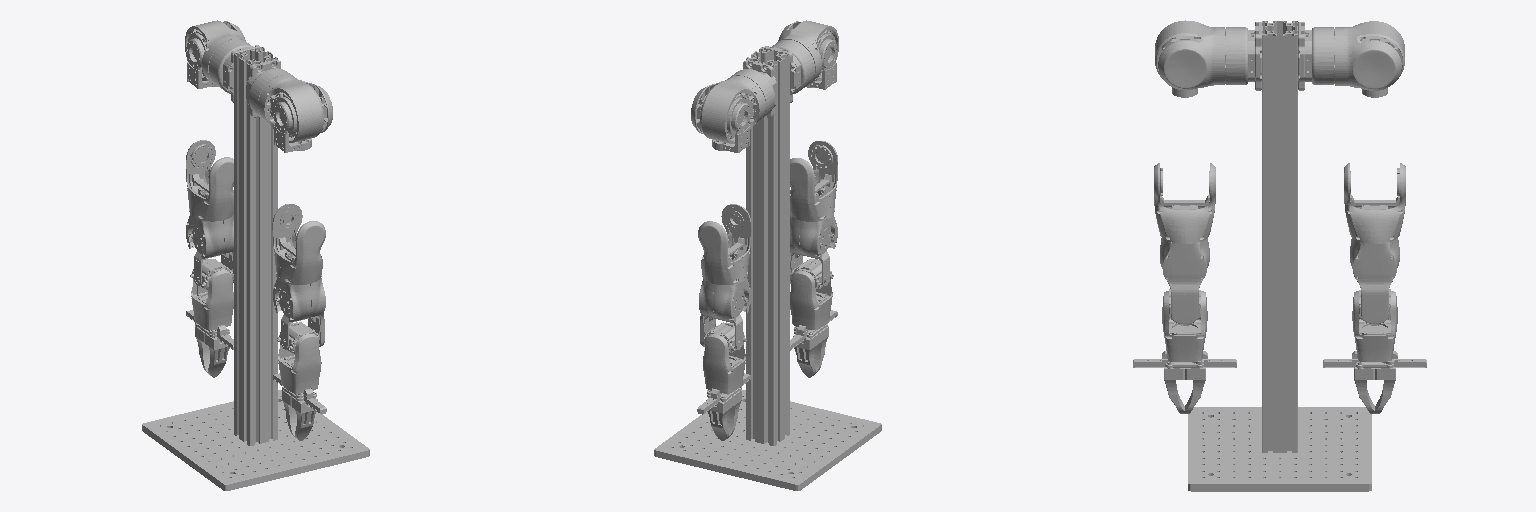
The robot description file, URDF, robot "LiteArm_A10_251224":
<?xml version="1.0" encoding="utf-8"?>
 <!-- This URDF was automatically created by SolidWorks to URDF Exporter! Originally created by Stephen Brawner (brawner@gmail.com) 
      Commit Version: 1.6.0-4-g7f85cfe  Build Version: 1.6.7995.38578
      For more information, please see http://wiki.ros.org/sw_urdf_exporter -->
 <robot name="LiteArm_A10_251224">
  <mujoco>
    <compiler meshdir="../meshes/" balanceinertia="true" discardvisual="false" inertiafromgeom="false" fusestatic="false" />
  </mujoco>

   <link name="base_link">
     <inertial>
       <origin xyz="0.0 0.0 0.05542218" rpy="0 0 0" />
       <mass value="10.57317707" />
       <inertia ixx="0.35705741" ixy="0.0" ixz="0.0" iyy="0.35705741" iyz="0.0" izz="0.13447021" />
     </inertial>
     <visual>
       <origin xyz="0 0 0" rpy="0 0 0" />
       <geometry>
         <mesh filename="package://litearm_a10_description/meshes/base_link.STL" />
       </geometry>
       <material name="">
         <color rgba="0.752941176470588 0.752941176470588 0.752941176470588 1" />
       </material>
     </visual>
     <collision>
       <origin xyz="0 0 0" rpy="0 0 0" />
       <geometry>
         <mesh filename="package://litearm_a10_description/meshes/base_link_simplify.STL" />
       </geometry>
     </collision>
   </link>
   <link name="torso_link">
     <inertial>
       <origin xyz="0.00013737 0.0 0.00018058" rpy="0 0 0" />
       <mass value="2.04147618" />
       <inertia ixx="0.01168081" ixy="4.23e-06" ixz="-7.21e-06" iyy="0.00229997" iyz="0.0" izz="0.01155229" />
     </inertial>
     <visual>
       <origin xyz="0 0 0" rpy="0 0 0" />
       <geometry>
         <mesh filename="package://litearm_a10_description/meshes/torso_link.STL" />
       </geometry>
       <material name="">
         <color rgba="0.752941176470588 0.752941176470588 0.752941176470588 1" />
       </material>
     </visual>
     <collision>
       <origin xyz="0 0 0" rpy="0 0 0" />
       <geometry>
         <mesh filename="package://litearm_a10_description/meshes/torso_link_simplify.STL" />
       </geometry>
     </collision>
   </link>
   <joint name="torso_joint" type="fixed">
     <origin xyz="0 0 0.7" rpy="0 0 0" />
     <parent link="base_link" />
     <child link="torso_link" />
     <axis xyz="0 0 0" />
     <dynamics damping="0.02" friction="0.0"/> <!-- 即使很小的阻尼也能极大改善稳定性 -->
   </joint>
   <link name="l_joint1_link">
     <inertial>
       <origin xyz="-0.00600738 0.05285179 -0.00015566" rpy="0 0 0" />
       <mass value="1.12932109" />
       <inertia ixx="0.00150295" ixy="5.535e-05" ixz="8.4e-07" iyy="0.0011659" iyz="-1.32e-06" izz="0.00137208" />
     </inertial>
     <visual>
       <origin xyz="0 0 0" rpy="0 0 0" />
       <geometry>
         <mesh filename="package://litearm_a10_description/meshes/l_joint1_link.STL" />
       </geometry>
       <material name="">
         <color rgba="0.752941176470588 0.752941176470588 0.752941176470588 1" />
       </material>
     </visual>
     <collision>
       <origin xyz="0 0 0" rpy="0 0 0" />
       <geometry>
         <mesh filename="package://litearm_a10_description/meshes/l_joint1_link_simplify.STL" />
       </geometry>
     </collision>
   </link>
   <joint name="l_joint1_joint" type="revolute">
     <origin xyz="0 0.096 0" rpy="0 0 0" />
     <parent link="torso_link" />
     <child link="l_joint1_link" />
     <axis xyz="0 1 0" />
     <limit lower="-3.0543" upper="1.6581" effort="75" velocity="6.0737" />
     <dynamics damping="0.02" friction="0.0"/> <!-- 即使很小的阻尼也能极大改善稳定性 -->
   </joint>
   <link name="l_joint2_link">
     <inertial>
       <origin xyz="-0.02317012 0.0 -0.03968965" rpy="0 0 0" />
       <mass value="0.09956239" />
       <inertia ixx="7.689e-05" ixy="0.0" ixz="2.394e-05" iyy="9.208e-05" iyz="0.0" izz="4.871e-05" />
     </inertial>
     <visual>
       <origin xyz="0 0 0" rpy="0 0 0" />
       <geometry>
         <mesh filename="package://litearm_a10_description/meshes/l_joint2_link.STL" />
       </geometry>
       <material name="">
         <color rgba="0.752941176470588 0.752941176470588 0.752941176470588 1" />
       </material>
     </visual>
     <collision>
       <origin xyz="0 0 0" rpy="0 0 0" />
       <geometry>
         <mesh filename="package://litearm_a10_description/meshes/l_joint2_link.STL" />
       </geometry>
     </collision>
   </link>
   <joint name="l_joint2_joint" type="revolute">
     <origin xyz="0 0.059 0" rpy="0 0 0" />
     <parent link="l_joint1_link" />
     <child link="l_joint2_link" />
     <axis xyz="1 0 0" />
     <limit lower="-0.27925" upper="2.8623" effort="75" velocity="6.0737" />
     <dynamics damping="0.02" friction="0.0"/> <!-- 即使很小的阻尼也能极大改善稳定性 -->
   </joint>
   <link name="l_joint3_link">
     <inertial>
       <origin xyz="-0.00426877 -0.00055976 -0.08262183" rpy="0 0 0" />
       <mass value="0.48716788" />
       <inertia ixx="0.00231297" ixy="-2e-08" ixz="-3.803e-05" iyy="0.00218224" iyz="-2.073e-05" izz="0.00065462" />
     </inertial>
     <visual>
       <origin xyz="0 0 0" rpy="0 0 0" />
       <geometry>
         <mesh filename="package://litearm_a10_description/meshes/l_joint3_link.STL" />
       </geometry>
       <material name="">
         <color rgba="0.752941176470588 0.752941176470588 0.752941176470588 1" />
       </material>
     </visual>
     <collision>
       <origin xyz="0 0 0" rpy="0 0 0" />
       <geometry>
         <mesh filename="package://litearm_a10_description/meshes/l_joint3_link_simplify.STL" />
       </geometry>
     </collision>
   </link>
   <joint name="l_joint3_joint" type="revolute">
     <origin xyz="0.00075 0 -0.0646" rpy="0 0 0" />
     <parent link="l_joint2_link" />
     <child link="l_joint3_link" />
     <axis xyz="0 0 -1" />
     <limit lower="-1.5708" upper="1.5708" effort="50" velocity="6.0737" />
     <dynamics damping="0.02" friction="0.0"/> <!-- 即使很小的阻尼也能极大改善稳定性 -->
   </joint>
   <link name="l_joint4_link">
     <inertial>
       <origin xyz="-0.00191509 -0.00090105 -0.05668951" rpy="0 0 0" />
       <mass value="0.42151987" />
       <inertia ixx="0.00068717" ixy="4.6e-07" ixz="3.7e-06" iyy="0.00049691" iyz="2.006e-05" izz="0.00033621" />
     </inertial>
     <visual>
       <origin xyz="0 0 0" rpy="0 0 0" />
       <geometry>
         <mesh filename="package://litearm_a10_description/meshes/l_joint4_link.STL" />
       </geometry>
       <material name="">
         <color rgba="0.752941176470588 0.752941176470588 0.752941176470588 1" />
       </material>
     </visual>
     <collision>
       <origin xyz="0 0 0" rpy="0 0 0" />
       <geometry>
         <mesh filename="package://litearm_a10_description/meshes/l_joint4_link.STL" />
       </geometry>
     </collision>
   </link>
   <joint name="l_joint4_joint" type="revolute">
     <origin xyz="0 -5E-05 -0.1615" rpy="0 0 0" />
     <parent link="l_joint3_link" />
     <child link="l_joint4_link" />
     <axis xyz="0 1 0" />
     <limit lower="-2.44" upper="1.57" effort="50" velocity="6.0737" />
     <dynamics damping="0.02" friction="0.0"/> <!-- 即使很小的阻尼也能极大改善稳定性 -->
   </joint>
   <link name="l_joint5_link">
     <inertial>
       <origin xyz="-0.00440923 -0.00026606 -0.05218834" rpy="0 0 0" />
       <mass value="0.54640883" />
       <inertia ixx="0.00051953" ixy="-9e-08" ixz="-1.127e-05" iyy="0.00060586" iyz="1e-06" izz="0.00028615" />
     </inertial>
     <visual>
       <origin xyz="0 0 0" rpy="0 0 0" />
       <geometry>
         <mesh filename="package://litearm_a10_description/meshes/l_joint5_link.STL" />
       </geometry>
       <material name="">
         <color rgba="0.752941176470588 0.752941176470588 0.752941176470588 1" />
       </material>
     </visual>
     <collision>
       <origin xyz="0 0 0" rpy="0 0 0" />
       <geometry>
         <mesh filename="package://litearm_a10_description/meshes/l_joint5_link.STL" />
       </geometry>
     </collision>
   </link>
   <joint name="l_joint5_joint" type="revolute">
     <origin xyz="0 0 -0.094" rpy="0 0 0" />
     <parent link="l_joint4_link" />
     <child link="l_joint5_link" />
     <axis xyz="0 0 1" />
     <limit lower="-1.5708" upper="1.5708" effort="10" velocity="10.263" />
     <dynamics damping="0.02" friction="0.0"/> <!-- 即使很小的阻尼也能极大改善稳定性 -->
   </joint>
   <link name="l_joint6_link">
     <inertial>
       <origin xyz="-0.00042158 0.00237788 -0.00011028" rpy="0 0 0" />
       <mass value="0.26605252" />
       <inertia ixx="0.00010511" ixy="-2e-07" ixz="4.4e-07" iyy="0.00010704" iyz="-1.4e-07" izz="0.0001287" />
     </inertial>
     <visual>
       <origin xyz="0 0 0" rpy="0 0 0" />
       <geometry>
         <mesh filename="package://litearm_a10_description/meshes/l_joint6_link.STL" />
       </geometry>
       <material name="">
         <color rgba="0.752941176470588 0.752941176470588 0.752941176470588 1" />
       </material>
     </visual>
     <collision>
       <origin xyz="0 0 0" rpy="0 0 0" />
       <geometry>
         <mesh filename="package://litearm_a10_description/meshes/l_joint6_link.STL" />
       </geometry>
     </collision>
   </link>
   <joint name="l_joint6_joint" type="revolute">
     <origin xyz="0 0 -0.1255" rpy="0 0 0" />
     <parent link="l_joint5_link" />
     <child link="l_joint6_link" />
     <axis xyz="1 0 0" />
     <limit lower="-0.76794" upper="0.76794" effort="20" velocity="6.2832" />
     <dynamics damping="0.02" friction="0.0"/> <!-- 即使很小的阻尼也能极大改善稳定性 -->
   </joint>
   <link name="l_joint7_link">
     <inertial>
       <origin xyz="-2.979e-05 5.453e-05 -0.08950101" rpy="0 0 0" />
       <mass value="0.61408261" />
       <inertia ixx="0.00146207" ixy="-1.31e-06" ixz="2.6e-07" iyy="0.0011969" iyz="-4.93e-06" izz="0.0004465" />
     </inertial>
     <visual>
       <origin xyz="0 0 0" rpy="0 0 0" />
       <geometry>
         <mesh filename="package://litearm_a10_description/meshes/l_joint7_link.STL" />
       </geometry>
       <material name="">
         <color rgba="0.752941176470588 0.752941176470588 0.752941176470588 1" />
       </material>
     </visual>
     <collision>
       <origin xyz="0 0 0" rpy="0 0 0" />
       <geometry>
         <mesh filename="package://litearm_a10_description/meshes/l_joint7_link_simplify.STL" />
       </geometry>
     </collision>
   </link>
   <joint name="l_joint7_joint" type="revolute">
     <origin xyz="0 0 0" rpy="0 0 0" />
     <parent link="l_joint6_link" />
     <child link="l_joint7_link" />
     <axis xyz="0 1 0" />
     <limit lower="-1.5708" upper="1.5708" effort="10" velocity="10.263" />
     <dynamics damping="0.02" friction="0.0"/> <!-- 即使很小的阻尼也能极大改善稳定性 -->
   </joint>
   <link name="r_joint1_link">
     <inertial>
       <origin xyz="-0.00600738 -0.05288804 0.00023378" rpy="0 0 0" />
       <mass value="1.12932109" />
       <inertia ixx="0.00150342" ixy="-5.677e-05" ixz="-7e-07" iyy="0.00116586" iyz="-7.8e-07" izz="0.00137258" />
     </inertial>
     <visual>
       <origin xyz="0 0 0" rpy="0 0 0" />
       <geometry>
         <mesh filename="package://litearm_a10_description/meshes/r_joint1_link.STL" />
       </geometry>
       <material name="">
         <color rgba="0.752941176470588 0.752941176470588 0.752941176470588 1" />
       </material>
     </visual>
     <collision>
       <origin xyz="0 0 0" rpy="0 0 0" />
       <geometry>
         <mesh filename="package://litearm_a10_description/meshes/r_joint1_link_simplify.STL" />
       </geometry>
     </collision>
   </link>
   <joint name="r_joint1_joint" type="revolute">
     <origin xyz="0 -0.096 0" rpy="0 0 0" />
     <parent link="torso_link" />
     <child link="r_joint1_link" />
     <axis xyz="0 -1 0" />
     <limit lower="-1.6581" upper="3.0543" effort="75" velocity="6.0737" /><!-- 改好了 -->
     <dynamics damping="0.02" friction="0.0"/> <!-- 即使很小的阻尼也能极大改善稳定性 -->
   </joint>
   <link name="r_joint2_link">
     <inertial>
       <origin xyz="-0.02317012 0.0 -0.03968965" rpy="0 0 0" />
       <mass value="0.09956239" />
       <inertia ixx="7.689e-05" ixy="0.0" ixz="2.394e-05" iyy="9.208e-05" iyz="0.0" izz="4.871e-05" />
     </inertial>
     <visual>
       <origin xyz="0 0 0" rpy="0 0 0" />
       <geometry>
         <mesh filename="package://litearm_a10_description/meshes/r_joint2_link.STL" />
       </geometry>
       <material name="">
         <color rgba="0.752941176470588 0.752941176470588 0.752941176470588 1" />
       </material>
     </visual>
     <collision>
       <origin xyz="0 0 0" rpy="0 0 0" />
       <geometry>
         <mesh filename="package://litearm_a10_description/meshes/r_joint2_link.STL" />
       </geometry>
     </collision>
   </link>
   <joint name="r_joint2_joint" type="revolute">
     <origin xyz="0 -0.059 0" rpy="0 0 0" />
     <parent link="r_joint1_link" />
     <child link="r_joint2_link" />
     <axis xyz="-1 0 0" />
     <limit lower="-0.27925" upper="2.8623" effort="75" velocity="6.0737" /> <!-- 改好了 -->
     <dynamics damping="0.02" friction="0.0"/> <!-- 即使很小的阻尼也能极大改善稳定性 -->
   </joint>
   <link name="r_joint3_link">
     <inertial>
       <origin xyz="-0.00411716 0.00049213 -0.08262124" rpy="0 0 0" />
       <mass value="0.48716788" />
       <inertia ixx="0.00231302" ixy="-5.8e-07" ixz="-3.282e-05" iyy="0.00218288" iyz="2.225e-05" izz="0.00065528" />
     </inertial>
     <visual>
       <origin xyz="0 0 0" rpy="0 0 0" />
       <geometry>
         <mesh filename="package://litearm_a10_description/meshes/r_joint3_link.STL" />
       </geometry>
       <material name="">
         <color rgba="0.752941176470588 0.752941176470588 0.752941176470588 1" />
       </material>
     </visual>
     <collision>
       <origin xyz="0 0 0" rpy="0 0 0" />
       <geometry>
         <mesh filename="package://litearm_a10_description/meshes/r_joint3_link_simplify.STL" />
       </geometry>
     </collision>
   </link>
   <joint name="r_joint3_joint" type="revolute">
     <origin xyz="0.00075 0 -0.0646" rpy="0 0 0" />
     <parent link="r_joint2_link" />
     <child link="r_joint3_link" />
     <axis xyz="0 0 -1" />
     <limit lower="-1.5708" upper="1.5708" effort="50" velocity="6.0737" />
     <dynamics damping="0.02" friction="0.0"/> <!-- 即使很小的阻尼也能极大改善稳定性 -->
   </joint>
   <link name="r_joint4_link">
     <inertial>
       <origin xyz="-0.00192955 0.0007977 -0.05668517" rpy="0 0 0" />
       <mass value="0.42151988" />  <!-- 原来是：0.42151988 -->
       <inertia ixx="0.0006874" ixy="-9.8e-07" ixz="3.96e-06" iyy="0.0004971" iyz="-2.077e-05" izz="0.00033631" />
     </inertial>
     <visual>
       <origin xyz="0 0 0" rpy="0 0 0" />
       <geometry>
         <mesh filename="package://litearm_a10_description/meshes/r_joint4_link.STL" />
       </geometry>
       <material name="">
         <color rgba="0.752941176470588 0.752941176470588 0.752941176470588 1" />
       </material>
     </visual>
     <collision>
       <origin xyz="0 0 0" rpy="0 0 0" />
       <geometry>
         <mesh filename="package://litearm_a10_description/meshes/r_joint4_link.STL" />
       </geometry>
     </collision>
   </link>
   <joint name="r_joint4_joint" type="revolute">
     <origin xyz="0 5E-05 -0.1615" rpy="0 0 0" />
     <parent link="r_joint3_link" />
     <child link="r_joint4_link" />
     <axis xyz="0 -1 0" />
     <limit lower="-1.57" upper="2.44" effort="50" velocity="6.0737" />  <!-- 改好了 -->
     <dynamics damping="0.02" friction="0.0"/> <!-- 即使很小的阻尼也能极大改善稳定性 -->
   </joint>
   <link name="r_joint5_link">
     <inertial>
       <origin xyz="-0.00434961 -0.00026606 -0.05218834" rpy="0 0 0" />
       <mass value="0.50640883" />  <!-- 原来是：0.54640883 -->
       <inertia ixx="0.00051953" ixy="-8e-08" ixz="-1.146e-05" iyy="0.00060649" iyz="1e-06" izz="0.00028678" />
     </inertial>
     <visual>
       <origin xyz="0 0 0" rpy="0 0 0" />
       <geometry>
         <mesh filename="package://litearm_a10_description/meshes/r_joint5_link.STL" />
       </geometry>
       <material name="">
         <color rgba="0.752941176470588 0.752941176470588 0.752941176470588 1" />
       </material>
     </visual>
     <collision>
       <origin xyz="0 0 0" rpy="0 0 0" />
       <geometry>
         <mesh filename="package://litearm_a10_description/meshes/r_joint5_link.STL" />
       </geometry>
     </collision>
   </link>
   <joint name="r_joint5_joint" type="revolute">
     <origin xyz="0 0 -0.094" rpy="0 0 0" />
     <parent link="r_joint4_link" />
     <child link="r_joint5_link" />
     <axis xyz="0 0 -1" />  <!-- 原来是0 0 -1-->
     <limit lower="-2.5" upper="2.5" effort="10" velocity="10.263" />
     <dynamics damping="0.02" friction="0.0"/> <!-- 即使很小的阻尼也能极大改善稳定性 -->
   </joint>
   <link name="r_joint6_link">
     <inertial>
       <origin xyz="-0.00042158 -0.00237788 0.00010463" rpy="0 0 0" />
       <mass value="0.26605252" />
       <inertia ixx="0.00010511" ixy="2e-07" ixz="-4.9e-07" iyy="0.00010704" iyz="-1.3e-07" izz="0.0001287" />
     </inertial>
     <visual>
       <origin xyz="0 0 0" rpy="0 0 0" />
       <geometry>
         <mesh filename="package://litearm_a10_description/meshes/r_joint6_link.STL" />
       </geometry>
       <material name="">
         <color rgba="0.752941176470588 0.752941176470588 0.752941176470588 1" />
       </material>
     </visual>
     <collision>
       <origin xyz="0 0 0" rpy="0 0 0" />
       <geometry>
         <mesh filename="package://litearm_a10_description/meshes/r_joint6_link.STL" />
       </geometry>
     </collision>
   </link>
   <joint name="r_joint6_joint" type="revolute">
     <origin xyz="0 0 -0.1255" rpy="0 0 0" />
     <parent link="r_joint5_link" />
     <child link="r_joint6_link" />
     <axis xyz="-1 0 0" />
     <limit lower="-0.76794" upper="0.76794" effort="20" velocity="6.2832" />
     <dynamics damping="0.02" friction="0.0"/> <!-- 即使很小的阻尼也能极大改善稳定性 -->
   </joint>
   <link name="r_joint7_link">
     <inertial>
       <origin xyz="-3.036e-05 -0.00016972 -0.08950102" rpy="0 0 0" />
       <mass value="0.61408261" />
       <inertia ixx="0.00146206" ixy="-1.3e-06" ixz="2.9e-07" iyy="0.0011969" iyz="7.19e-06" izz="0.00044649" />
     </inertial>
     <visual>
       <origin xyz="0 0 0" rpy="0 0 0" />
       <geometry>
         <mesh filename="package://litearm_a10_description/meshes/r_joint7_link.STL" />
       </geometry>
       <material name="">
         <color rgba="0.752941176470588 0.752941176470588 0.752941176470588 1" />
       </material>
     </visual>
     <collision>
       <origin xyz="0 0 0" rpy="0 0 0" />
       <geometry>
         <mesh filename="package://litearm_a10_description/meshes/r_joint7_link_simplify.STL" />
       </geometry>
     </collision>
   </link>
   <joint name="r_joint7_joint" type="revolute">
     <origin xyz="0 0 0" rpy="0 0 0" />
     <parent link="r_joint6_link" />
     <child link="r_joint7_link" />
     <axis xyz="0 -1 0" />
     <limit lower="-1.5708" upper="1.5708" effort="10" velocity="10.263" />
     <dynamics damping="0.02" friction="0.0"/> <!-- 即使很小的阻尼也能极大改善稳定性 -->
   </joint>
 </robot>

--- What the picture shows (computed from the rendered views, not written in the file) ---
Views: 3 orthographic renders of the robot side by side, from view 1: azimuth 30°, elevation 25°; view 2: azimuth 150°, elevation 25°; view 3: azimuth 270°, elevation 25°.
Robot: LiteArm_A10_251224 — 16 links, 15 joints (14 revolute, 1 fixed); root link base_link; default pose: every joint at zero.
Visible links, largest first — view 1: base_link, r_joint7_link, l_joint7_link, r_joint4_link, l_joint4_link, r_joint1_link, torso_link, r_joint5_link, l_joint5_link, l_joint1_link, r_joint2_link, l_joint2_link; view 2: base_link, l_joint7_link, r_joint7_link, l_joint4_link, l_joint1_link, r_joint4_link, torso_link, l_joint5_link, r_joint5_link, r_joint1_link, l_joint2_link, r_joint2_link; view 3: base_link, torso_link, l_joint1_link, r_joint1_link, l_joint7_link, r_joint7_link, r_joint5_link, l_joint5_link, l_joint4_link, r_joint4_link.
Boxes of the visible links, bbox=[...] form: base_link: bbox=[142, 47, 369, 490]; r_joint7_link: bbox=[273, 323, 326, 440]; l_joint7_link: bbox=[186, 259, 233, 377]; r_joint4_link: bbox=[272, 204, 325, 284]; l_joint4_link: bbox=[186, 140, 233, 221]; r_joint1_link: bbox=[258, 75, 332, 142]; torso_link: bbox=[209, 39, 292, 119]; r_joint5_link: bbox=[273, 278, 325, 349]; l_joint5_link: bbox=[186, 215, 233, 285]; l_joint1_link: bbox=[185, 20, 245, 83]; r_joint2_link: bbox=[273, 102, 311, 152]; l_joint2_link: bbox=[186, 39, 217, 88]; base_link: bbox=[654, 47, 881, 490]; l_joint7_link: bbox=[697, 323, 750, 440]; r_joint7_link: bbox=[790, 259, 837, 377]; l_joint4_link: bbox=[698, 204, 751, 284]; l_joint1_link: bbox=[691, 76, 765, 143]; r_joint4_link: bbox=[790, 141, 837, 221]; torso_link: bbox=[731, 40, 814, 119]; l_joint5_link: bbox=[699, 279, 750, 349]; r_joint5_link: bbox=[790, 215, 837, 285]; r_joint1_link: bbox=[778, 20, 838, 82]; l_joint2_link: bbox=[712, 103, 750, 152]; r_joint2_link: bbox=[806, 39, 836, 89]; base_link: bbox=[1188, 21, 1371, 491]; torso_link: bbox=[1225, 22, 1334, 90]; l_joint1_link: bbox=[1335, 21, 1404, 90]; r_joint1_link: bbox=[1155, 20, 1224, 89]; l_joint7_link: bbox=[1323, 291, 1426, 413]; r_joint7_link: bbox=[1133, 291, 1236, 413]; r_joint5_link: bbox=[1160, 238, 1209, 323]; l_joint5_link: bbox=[1350, 238, 1399, 323]; l_joint4_link: bbox=[1344, 163, 1405, 243]; r_joint4_link: bbox=[1154, 163, 1215, 243].
Size in the robot's own frame: 0.3 by 0.4789 by 0.7635 metres.
14 mesh visuals loaded from 16 distinct referenced files (14 binary STL); not drawn: 2 (reference not matched to a file when rendering).
